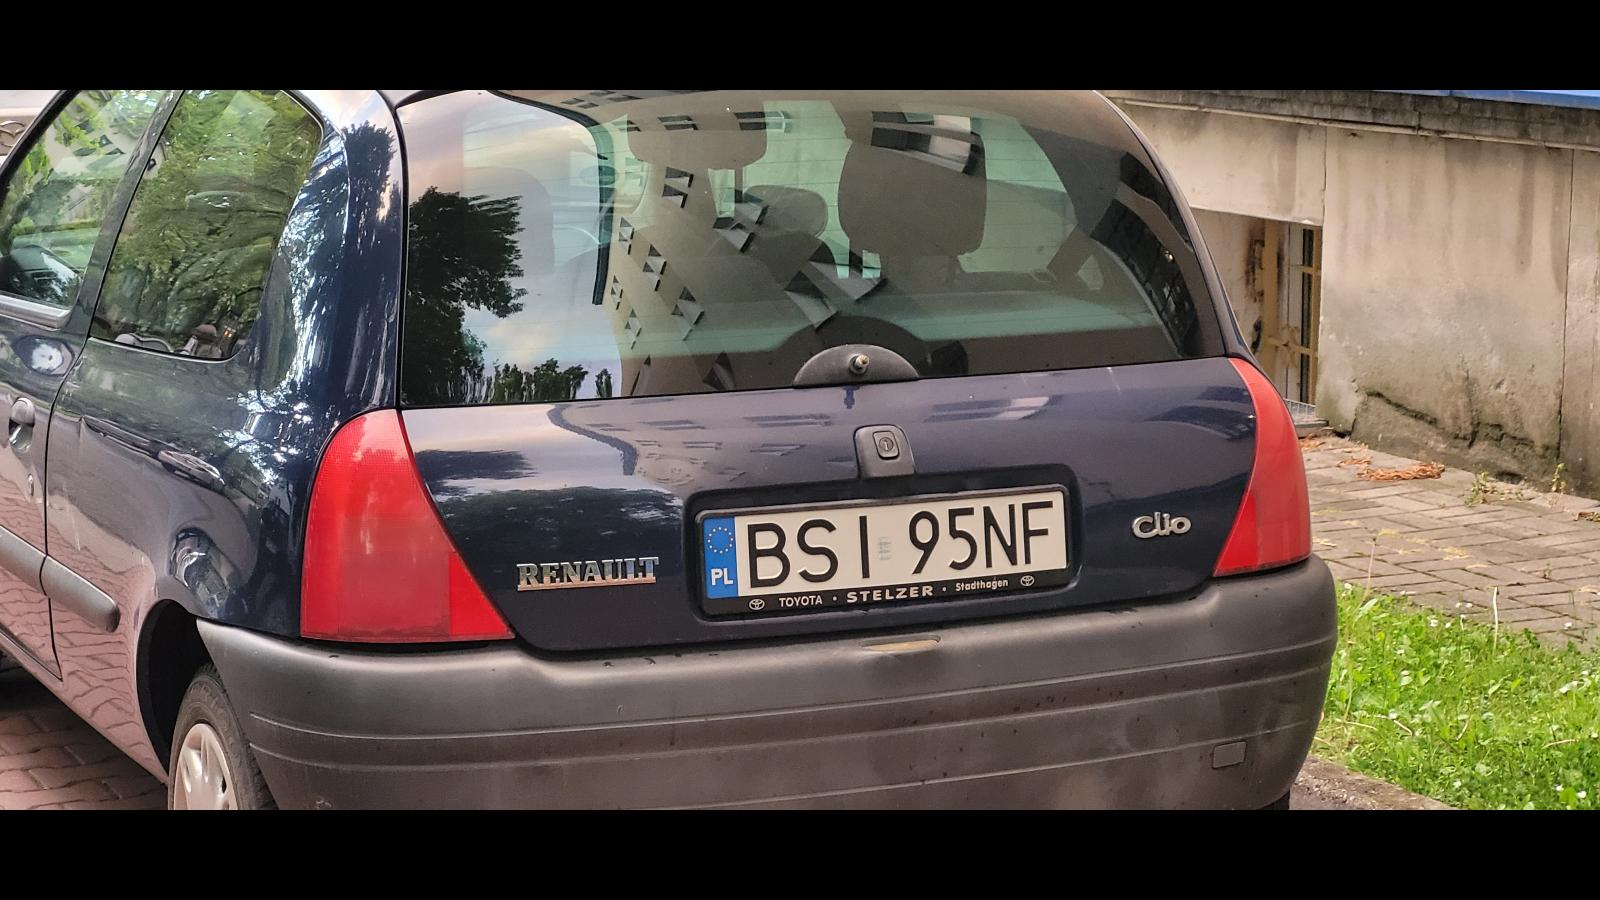plates: (696, 485, 1074, 615)
